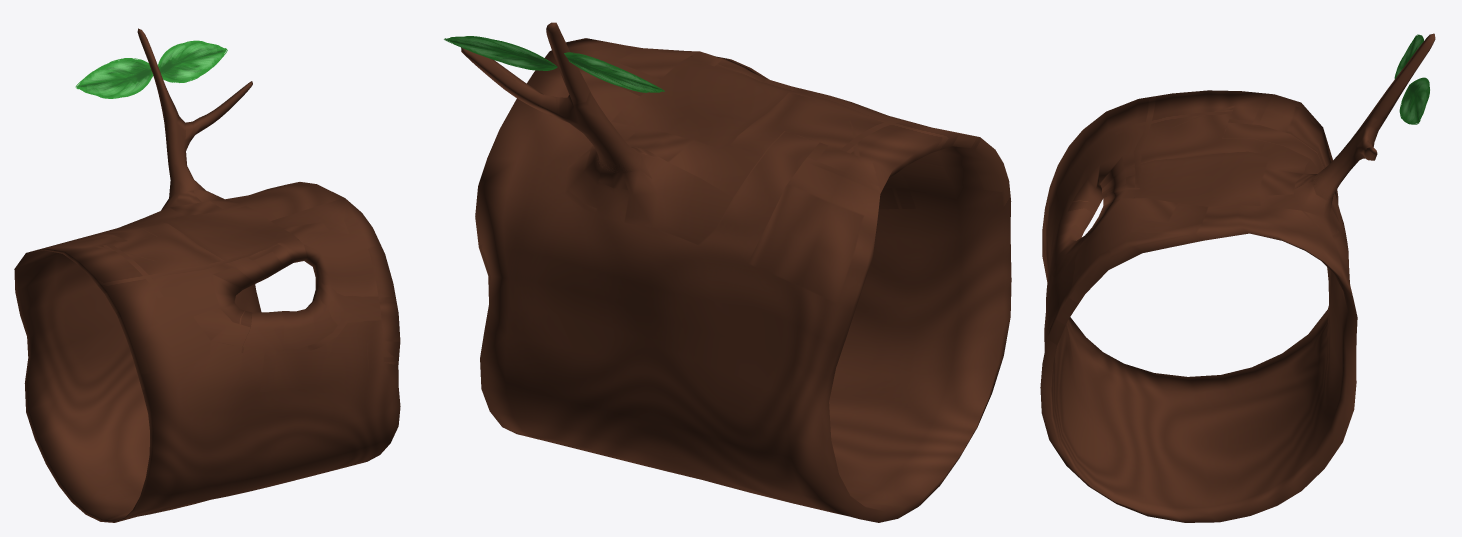
Rendered from Trunk.fbx.
3 renders of one model, left to right at view 1: azimuth 30°, elevation 25°; view 2: azimuth 150°, elevation 25°; view 3: azimuth 270°, elevation 25°, orthographic. The views are drawn at different scales.
Visible parts, largest first — view 1: Trunk; view 2: Trunk; view 3: Trunk.
Boxes of the visible parts, x1,y1,x2,y2 form: Trunk: [14, 28, 400, 522]; Trunk: [444, 22, 1011, 522]; Trunk: [1040, 33, 1435, 522].
Size of the model in its own units: 227 by 291 by 245.
